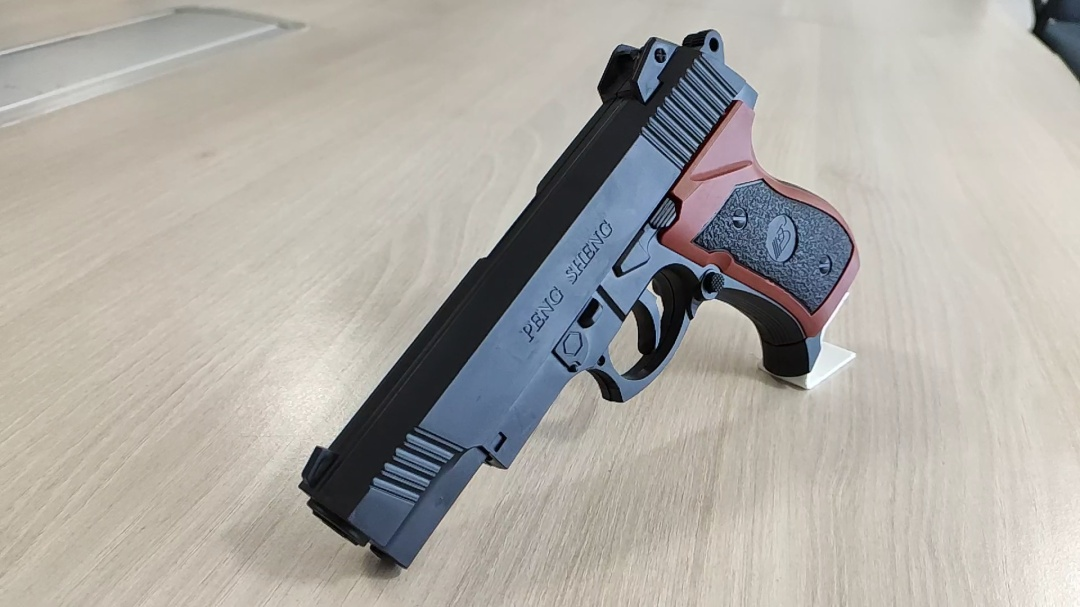gun: (599, 186, 621, 200)
